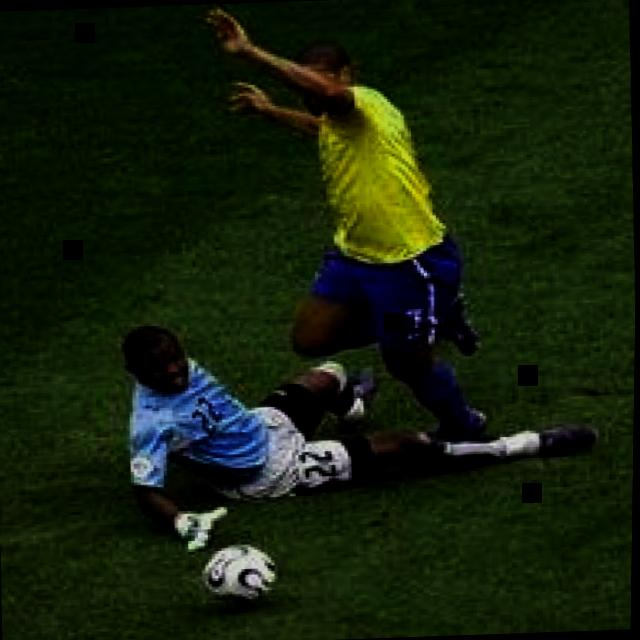Fall-Detected: (92, 302, 610, 517)
